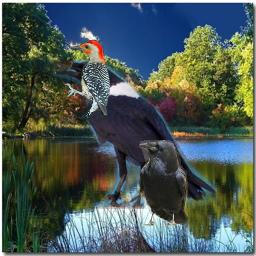Crow: (53, 59, 217, 209), (138, 140, 188, 226)
Woodpecker: (65, 40, 112, 120)
